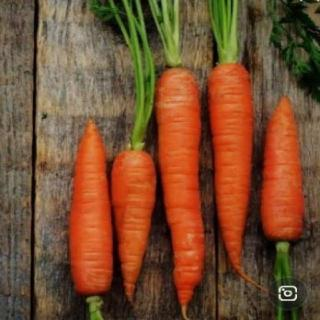carrot: (150, 62, 204, 314), (207, 62, 257, 290), (68, 112, 115, 302), (106, 145, 157, 307), (264, 92, 312, 241)
